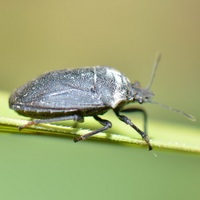insect: (9, 55, 194, 149)
